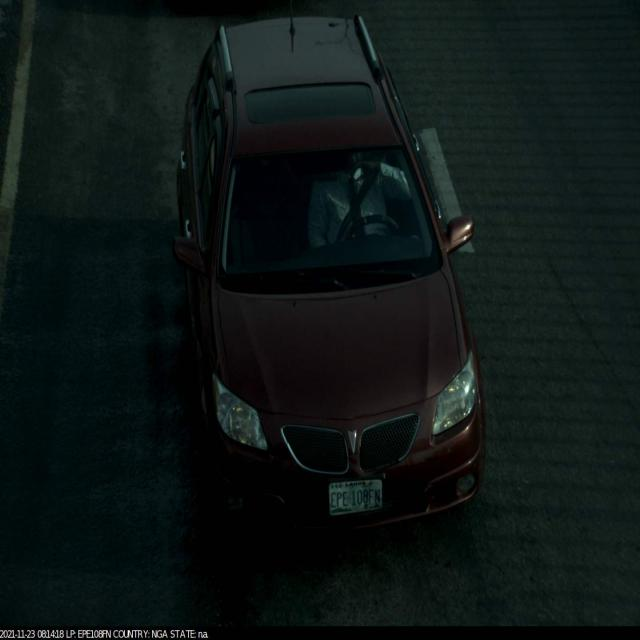windshield: (215, 141, 454, 300)
